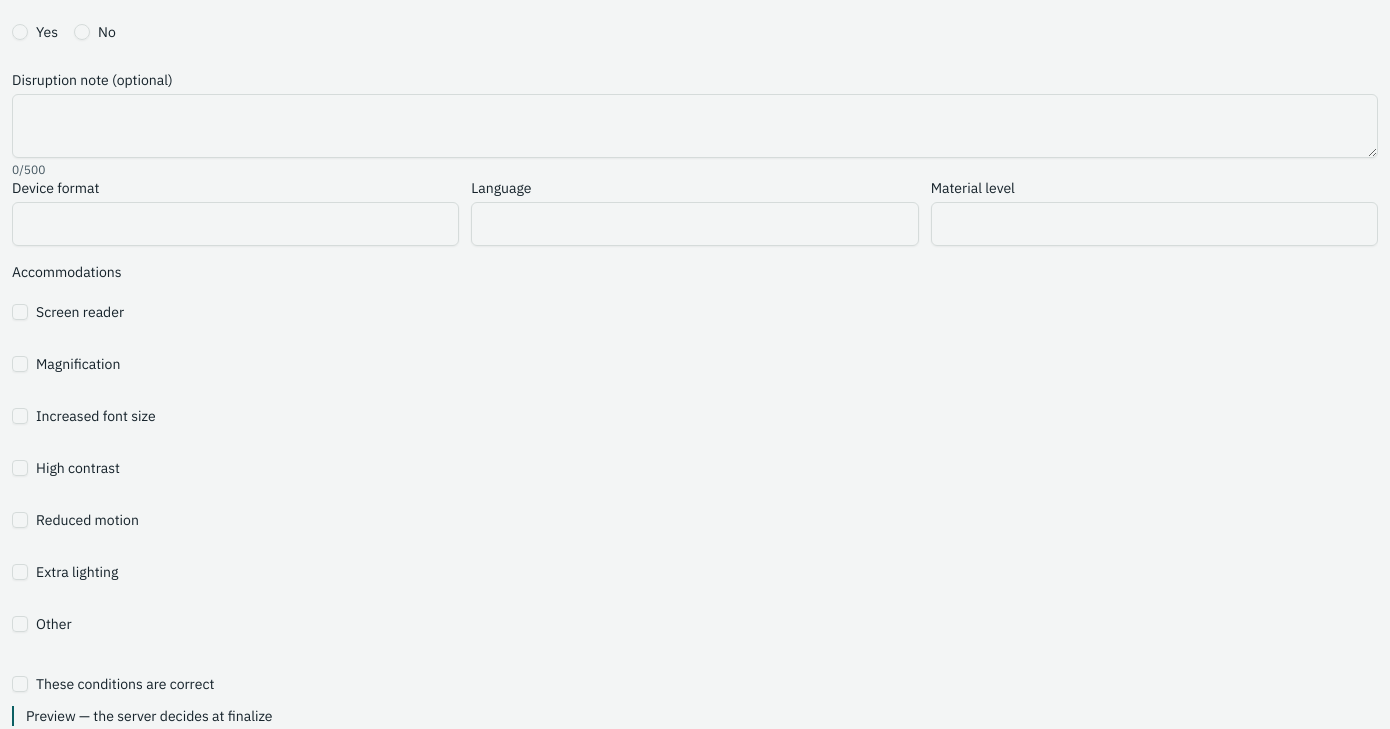
Test case: ReviewAttestation › canFinalize stays false until the conditions confirm is checked
Click the 2nd radio button named "No": (82, 32) 74,24 -> 90,40
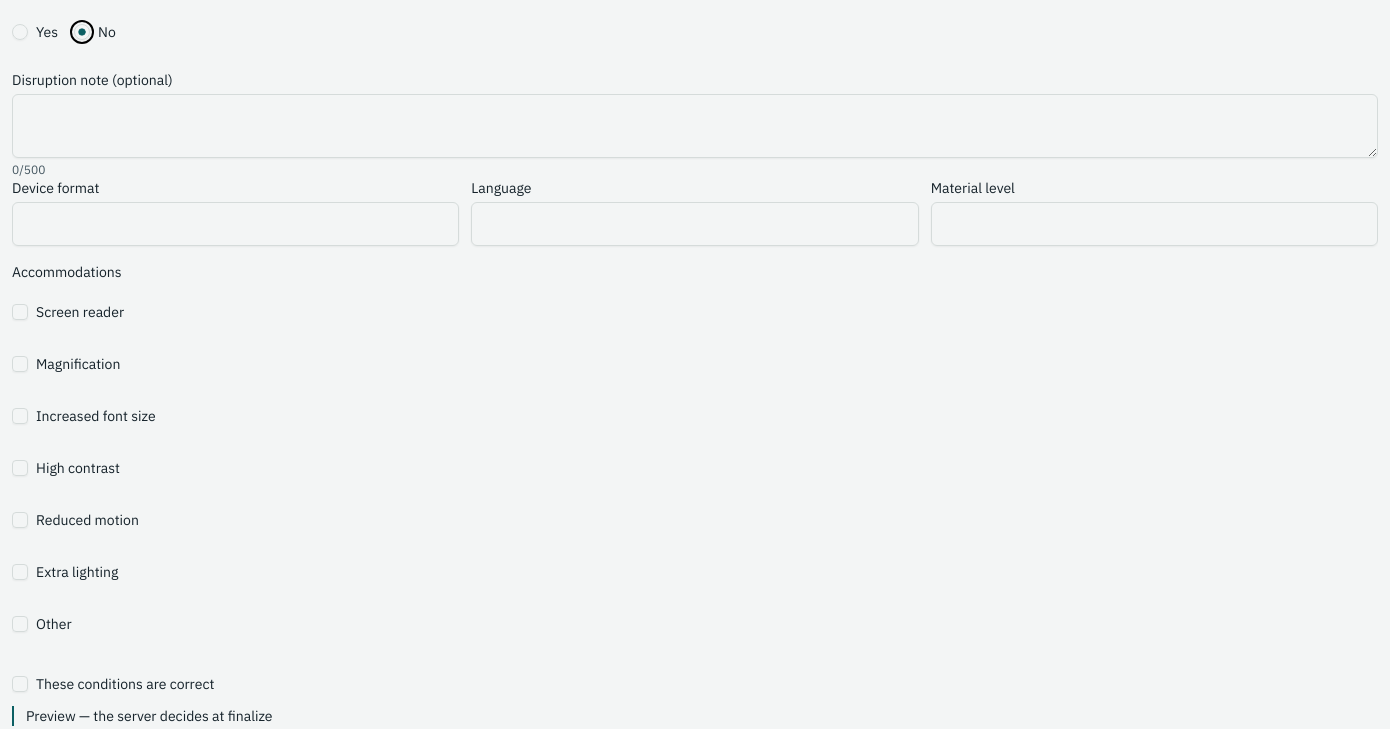
Click the checkbox named "These conditions are correct" next to "These conditions are correct": (20, 684) 12,676 -> 28,692
(page scrolled)
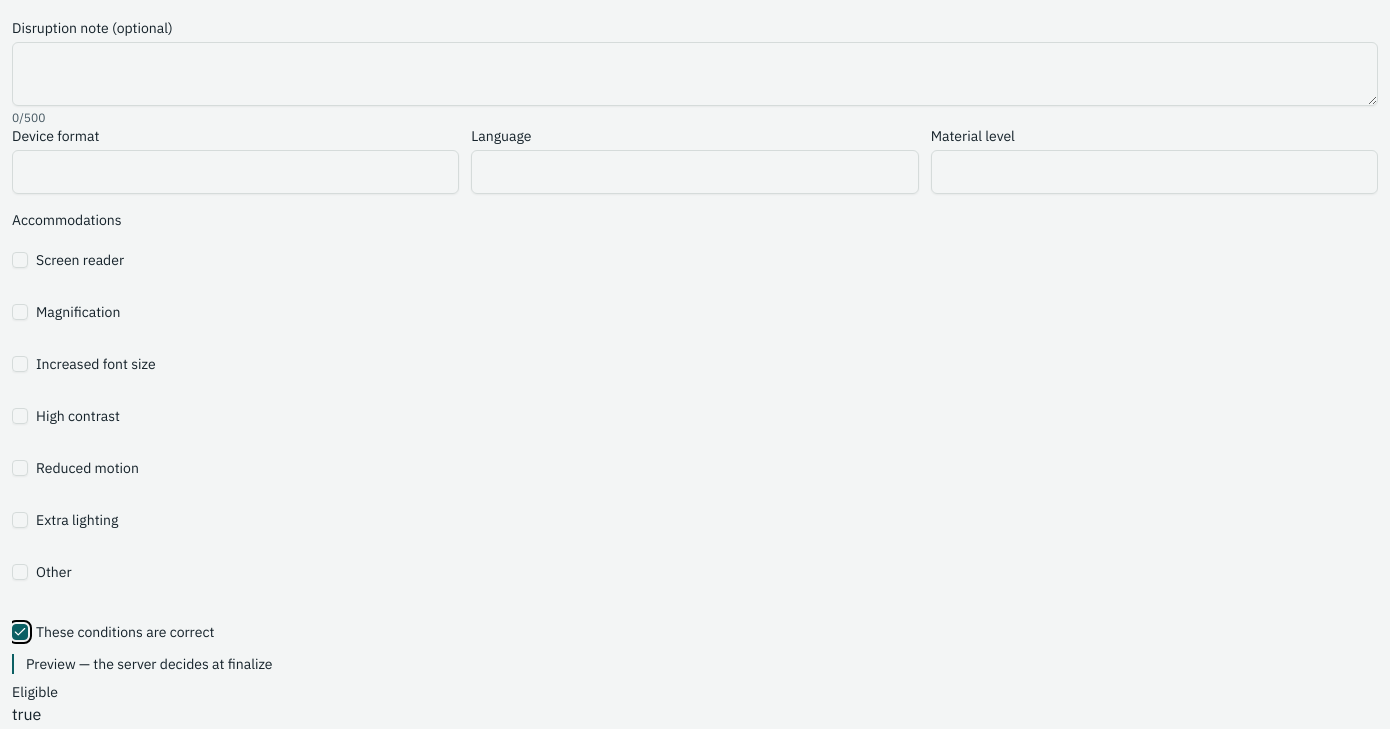
Expected: the text with test id "can-finalize" reads "true", 12,704 -> 41,724
